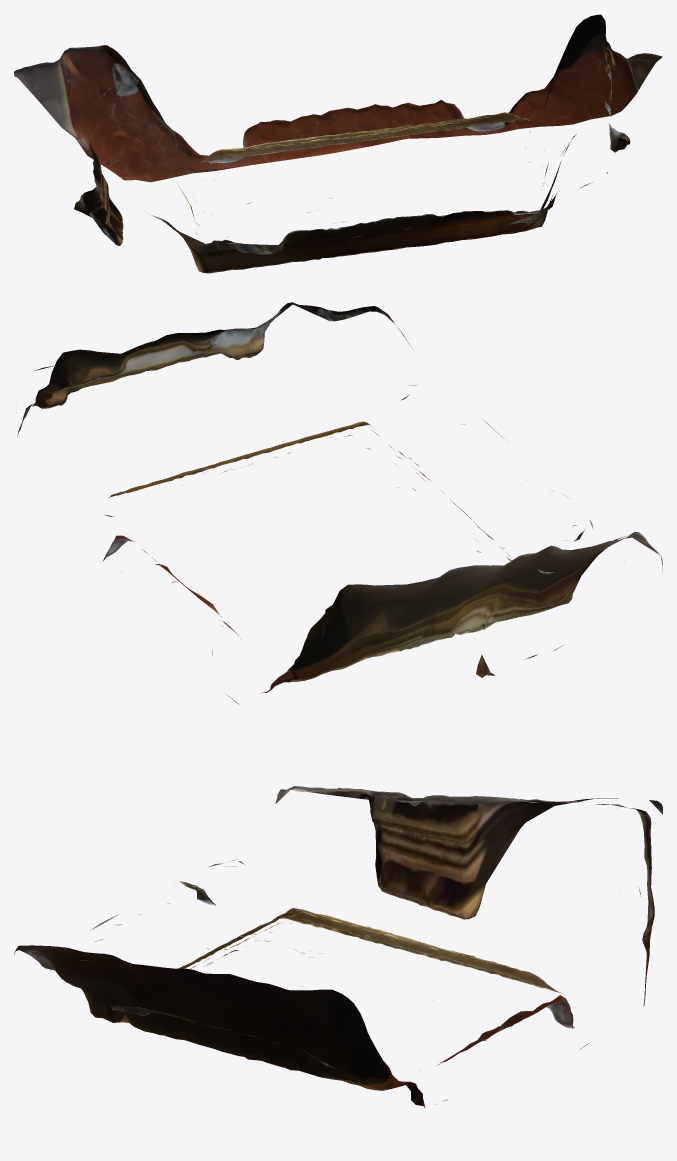
3 views of the same model, one above another, from view 1: azimuth 30°, elevation 25°; view 2: azimuth 150°, elevation 25°; view 3: azimuth 270°, elevation 25° (orthographic). The views are drawn at different scales.
Parts seen in each view (by area): view 1: Node; view 2: Node; view 3: Node.
Part boxes in pixels (bbox=[...]): Node: bbox=[14, 14, 662, 273]; Node: bbox=[16, 302, 662, 704]; Node: bbox=[14, 786, 662, 1108].
Size of the model in its own units: 1.61 by 0.4972 by 1.37.
1 material, 1 textured.
